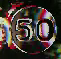Speed limit: (5, 3, 57, 52)
